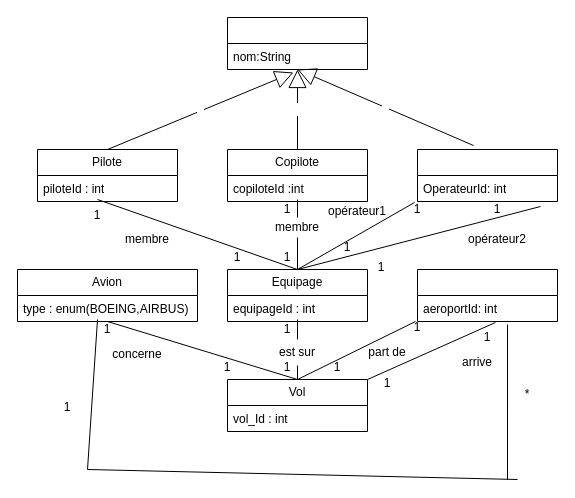
This 575x498 diagram has some shape labels left out. The box of each missing label's shape, as (x1, y1, x2, y2) in pixels:
Aéroport: (416, 268, 558, 322)
Opérateur: (416, 148, 558, 202)
Personne: (226, 16, 368, 70)
